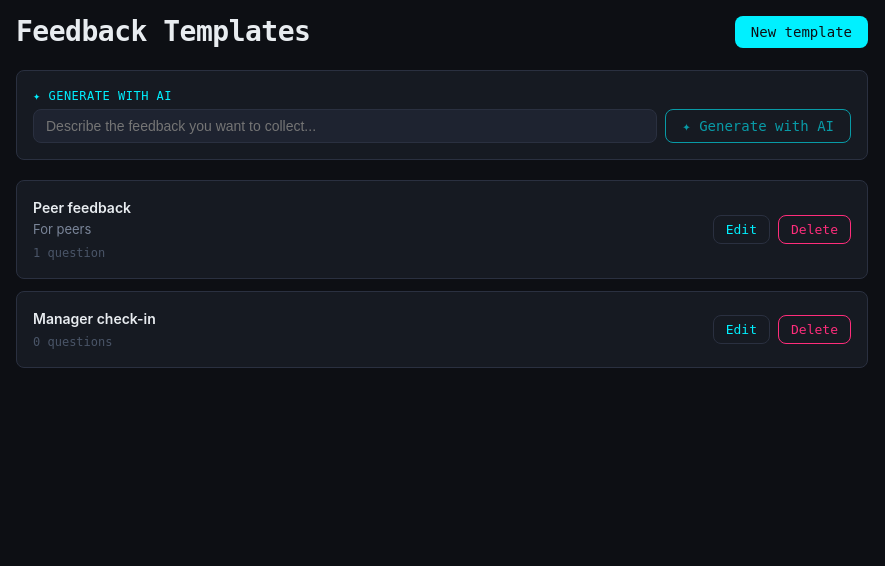
Test case: FeedbackTemplatesPage › opens the builder pre-filled on a successful AI {draft}
The width and height of the screenshot is (885, 566).
Type "brief" into the field with test id "feedback-templates-ai-brief".
click(345, 126); type("brief")  # box [33,109,657,143]
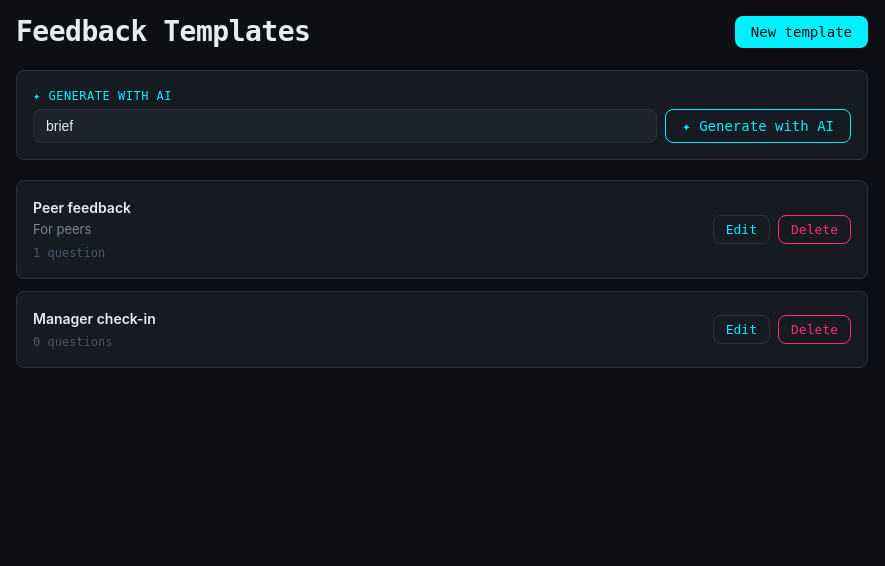
Click the button with test id "feedback-templates-ai-generate-btn".
click(758, 126)  # box [665,109,851,143]
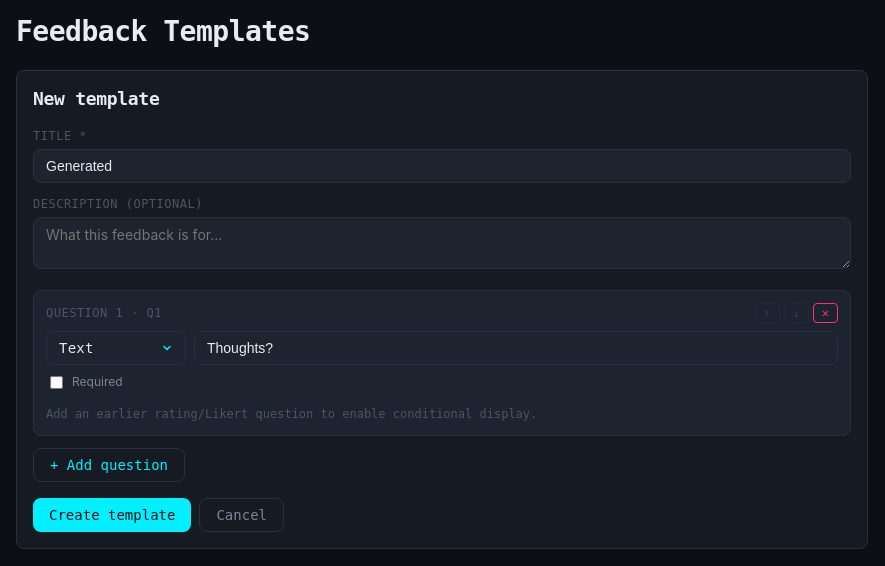
Expected: the element with test id "feedback-template-builder" is shown
Expected: the field with test id "ftb-title-input" holds "Generated", [33,149,851,183]
